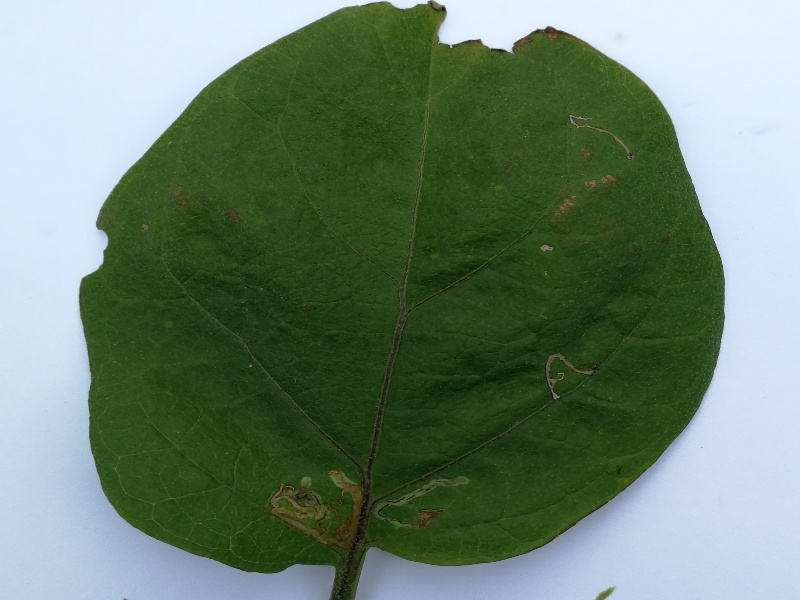leafminer: (268, 466, 370, 552), (374, 468, 479, 535), (559, 104, 637, 158), (535, 348, 602, 407)
